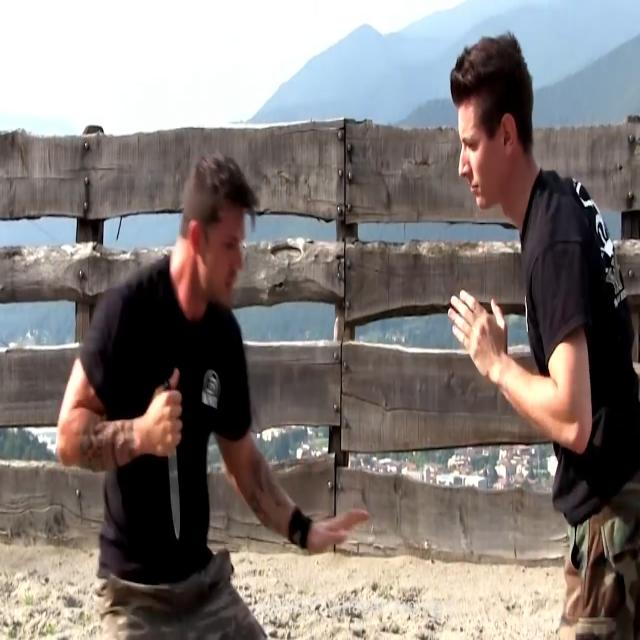knife: (164, 442, 191, 544)
